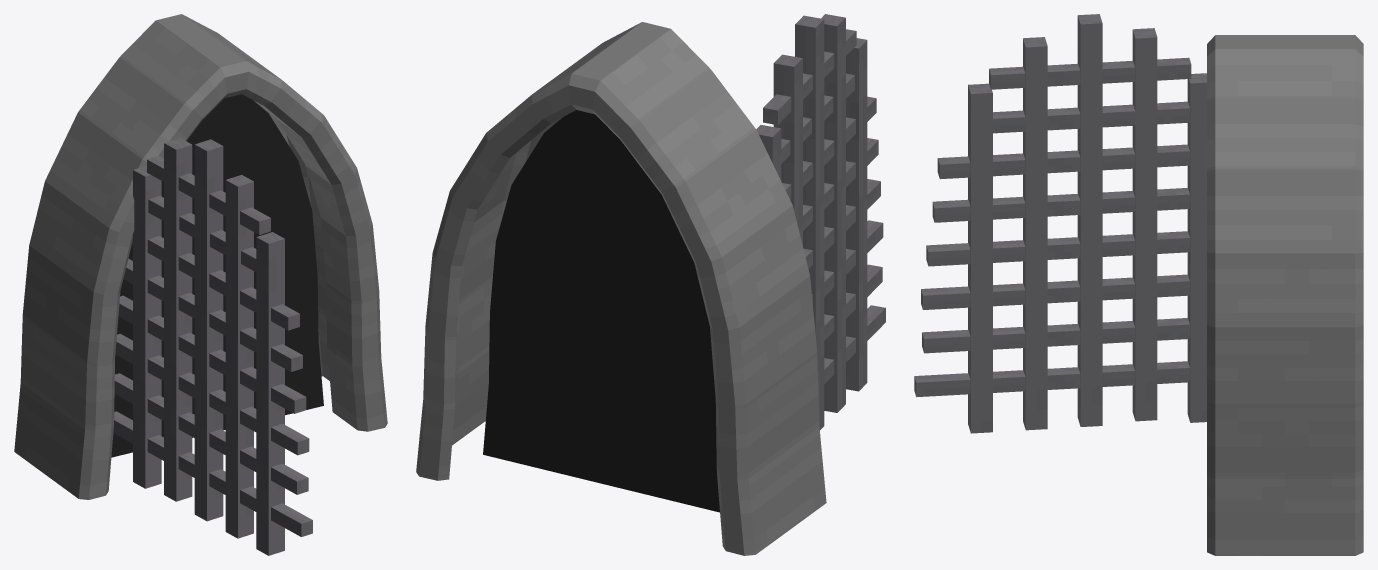
The model's file is KerkerDeurOpen.fbx.
3 views of the same model, side by side, from view 1: azimuth 30°, elevation 25°; view 2: azimuth 150°, elevation 25°; view 3: azimuth 270°, elevation 25° (orthographic). The views are drawn at different scales.
Parts seen in each view (by area): view 1: KerkerDeur; view 2: KerkerDeur; view 3: KerkerDeur.
Part boxes in pixels (x1=…): KerkerDeur: x1=14, y1=14, x2=387, y2=555; KerkerDeur: x1=416, y1=14, x2=885, y2=555; KerkerDeur: x1=914, y1=14, x2=1363, y2=555.
Size of the model in its own units: 1.62 by 1.98 by 1.87.
